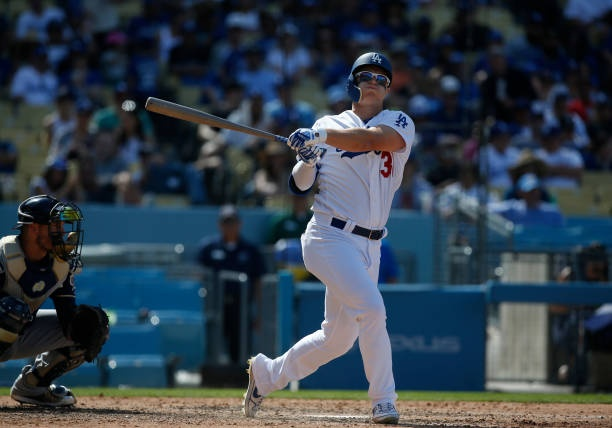bita: (143, 98, 308, 149)
